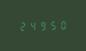five: (48, 19, 57, 30)
four: (28, 20, 37, 31)
nine: (38, 20, 47, 30)
two: (18, 20, 27, 31)
zero: (58, 19, 67, 30)
